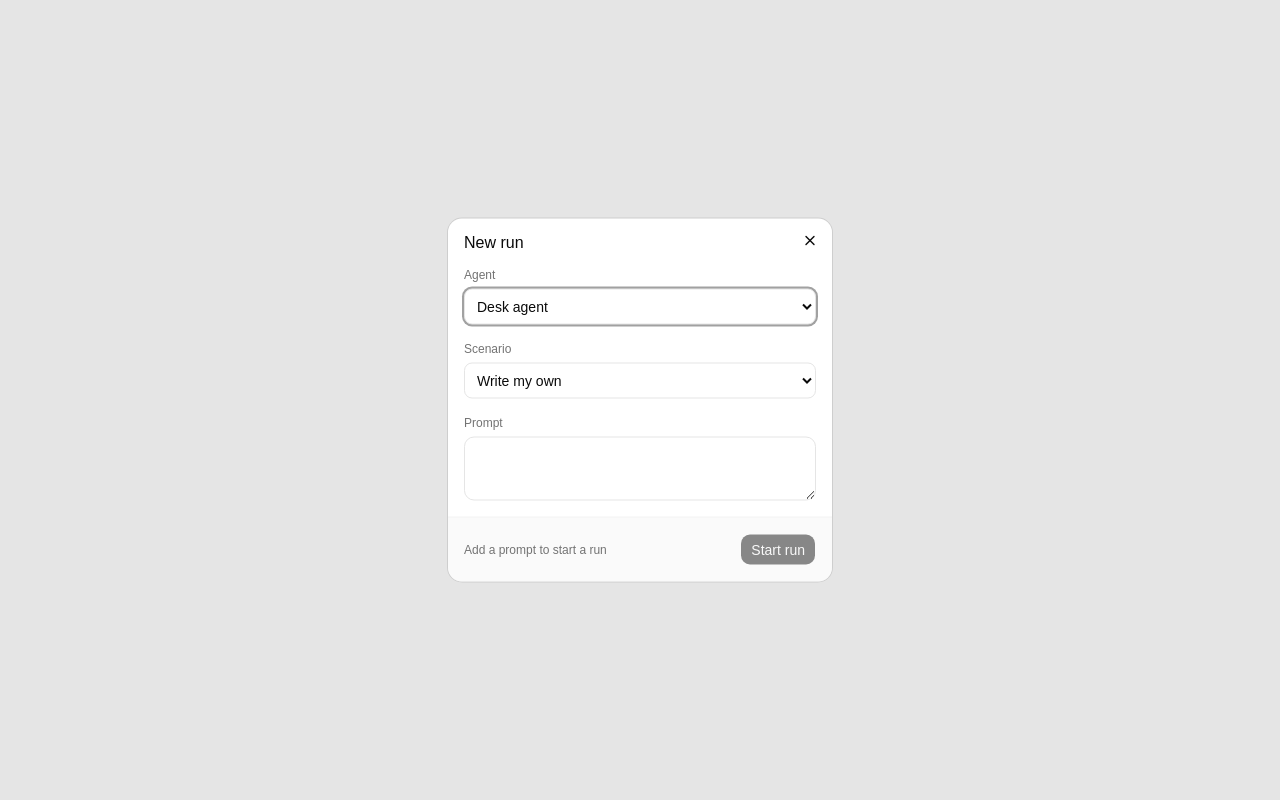
Test: NewRunDialog › shows a refused start inline with its status
Step 1. Type "go" into the text box labelled "Prompt" → (640, 468), box [464,436,816,500]
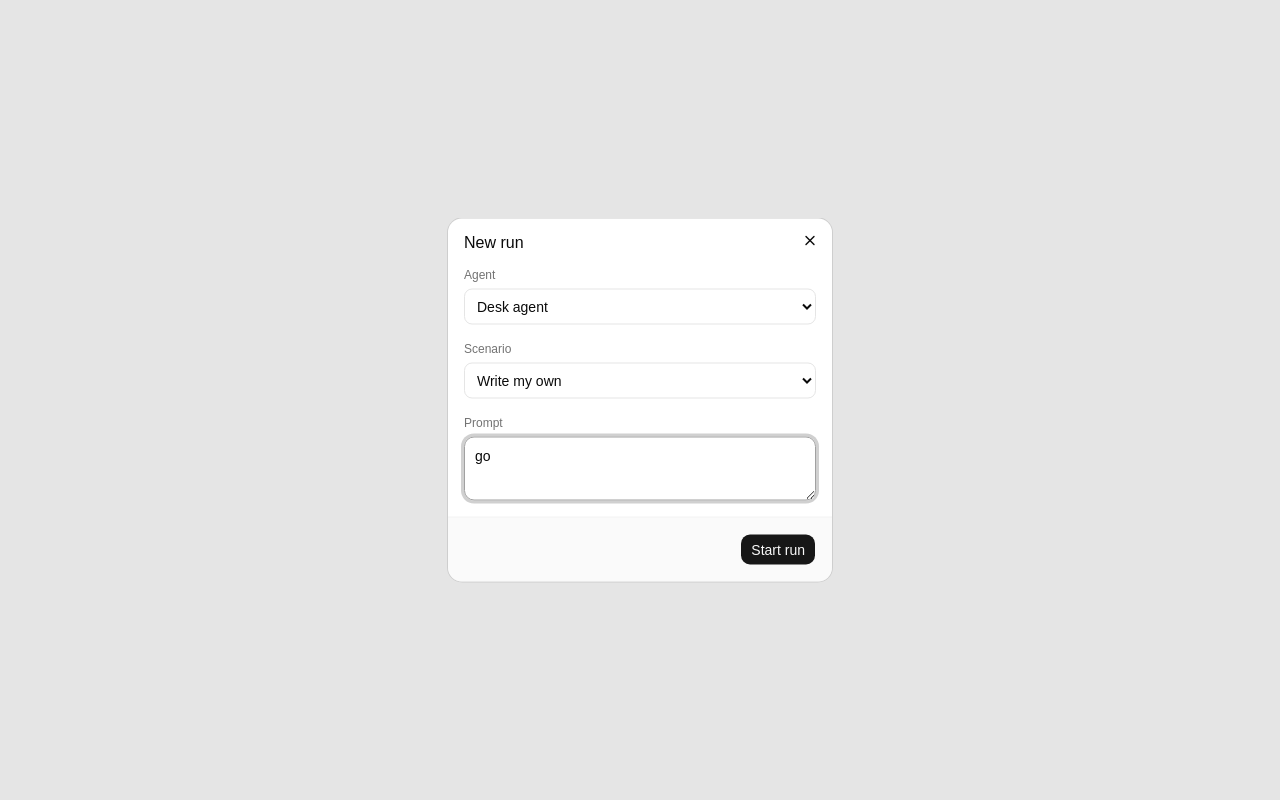
Step 2. Click the button "Start run" → (778, 550), box [740,534,816,566]
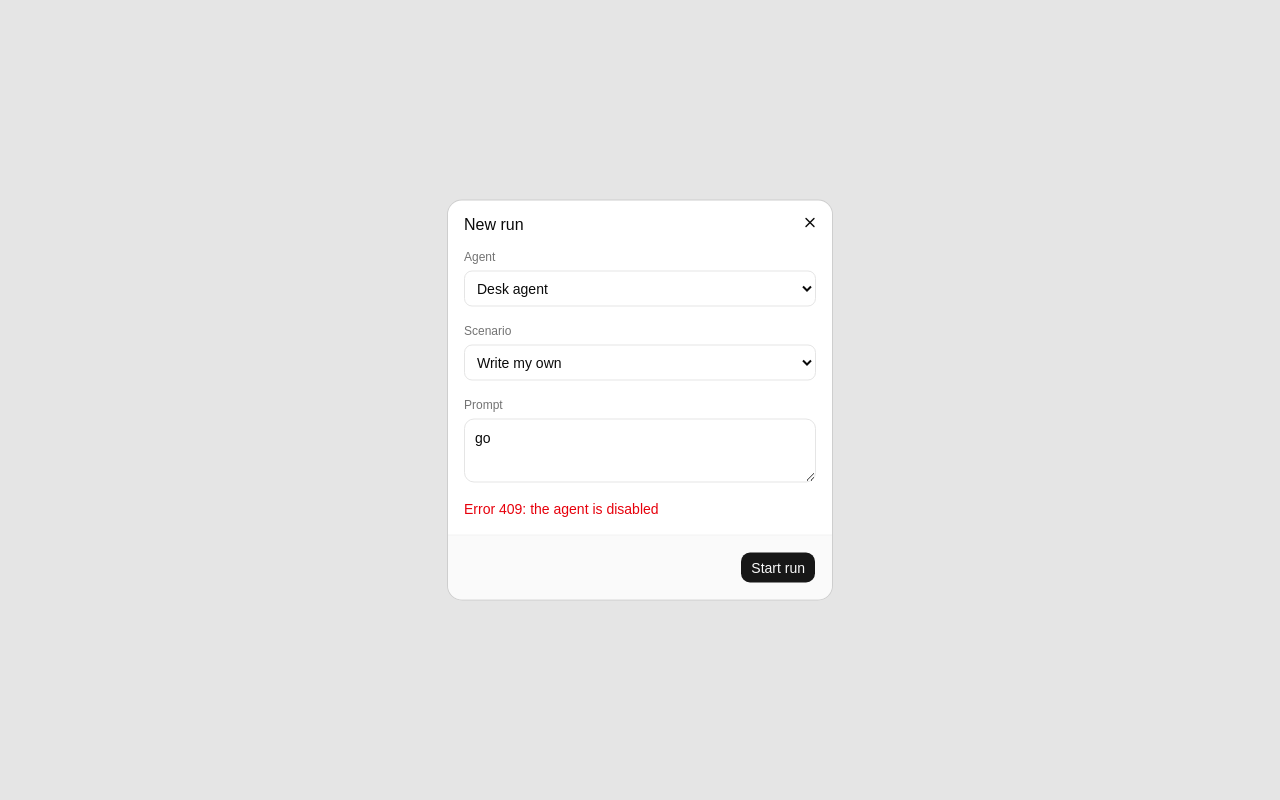
Expected: the message reads "Error 409: the agent is disabled", [464,500,659,516]
